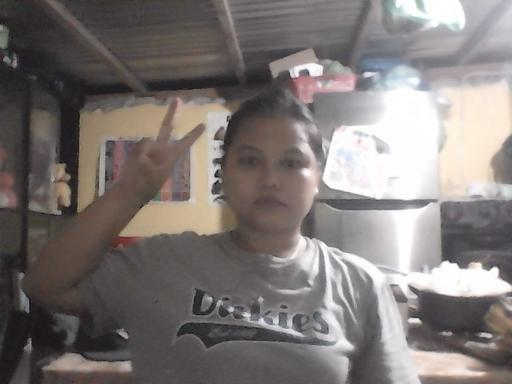peace: (117, 95, 210, 202)
